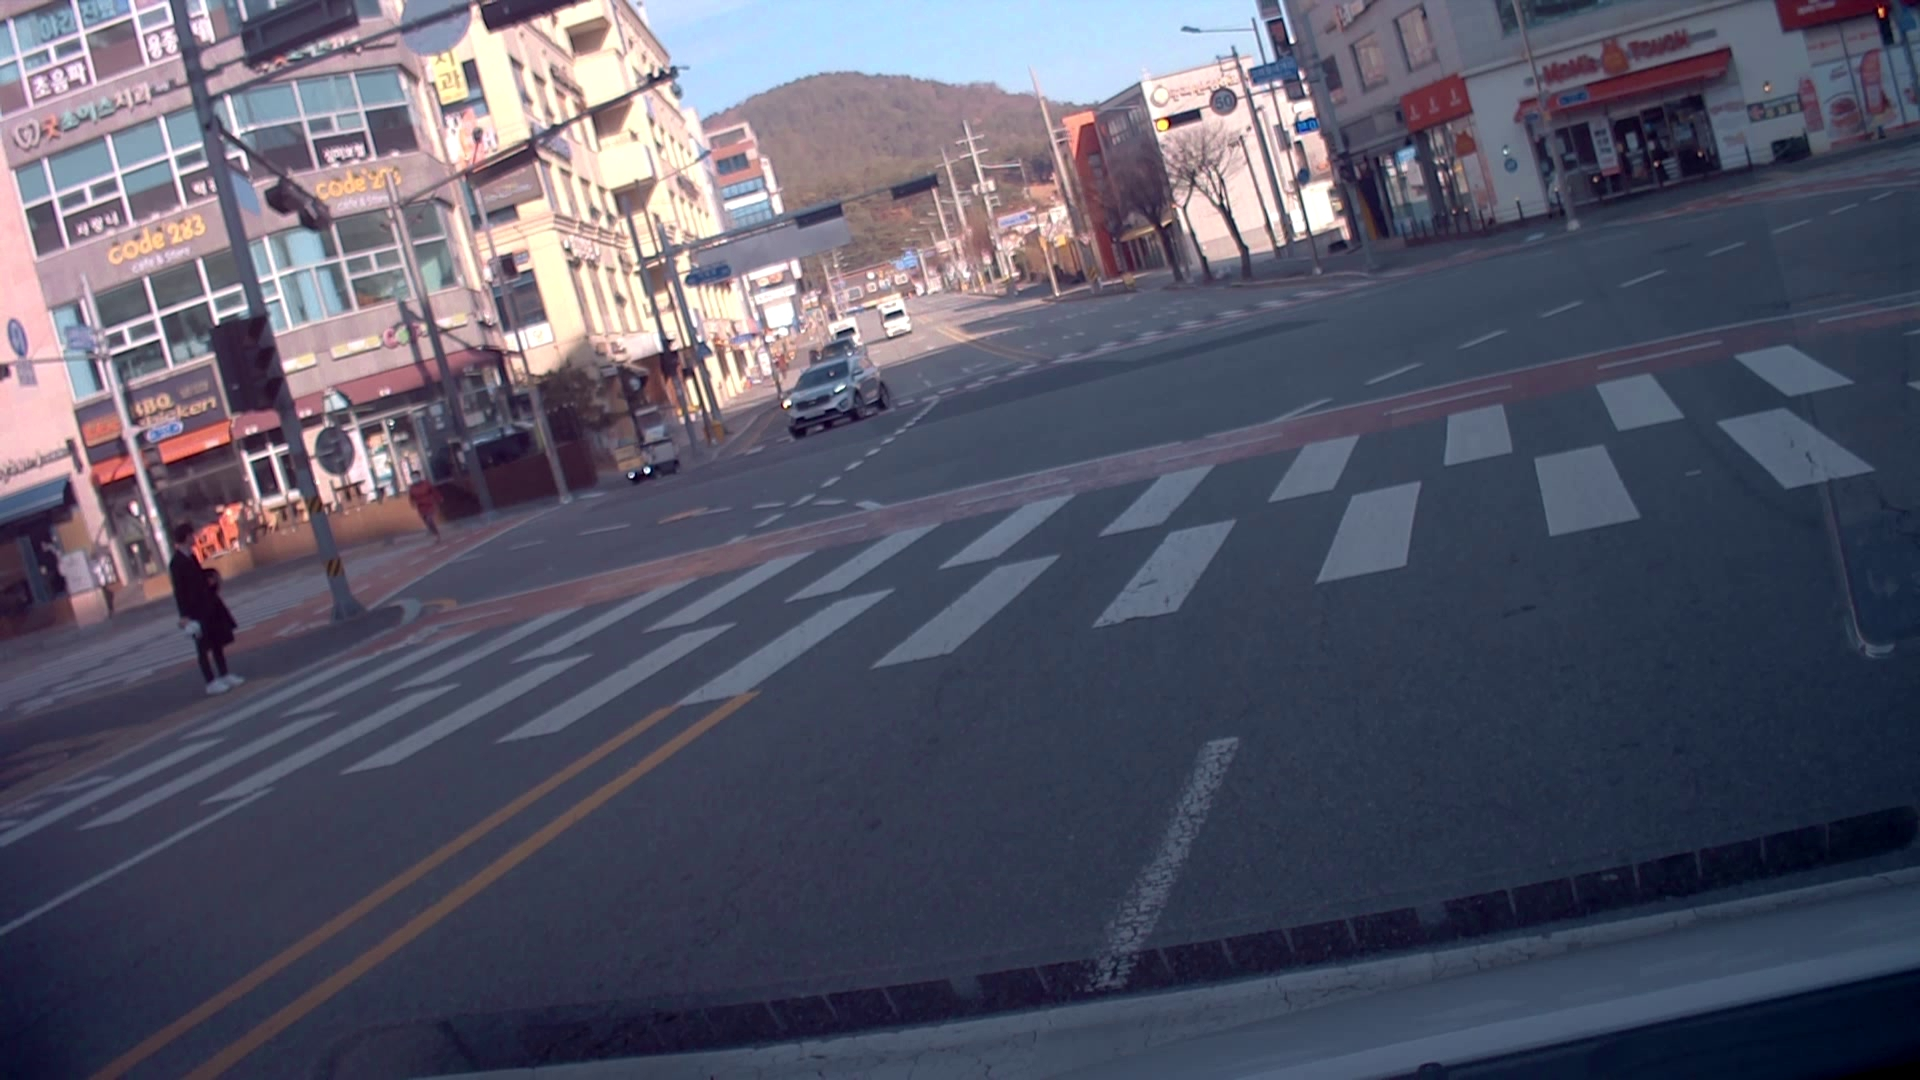trafficLight: (1156, 105, 1203, 137)
trafficSignCircle: (1211, 83, 1238, 116)
